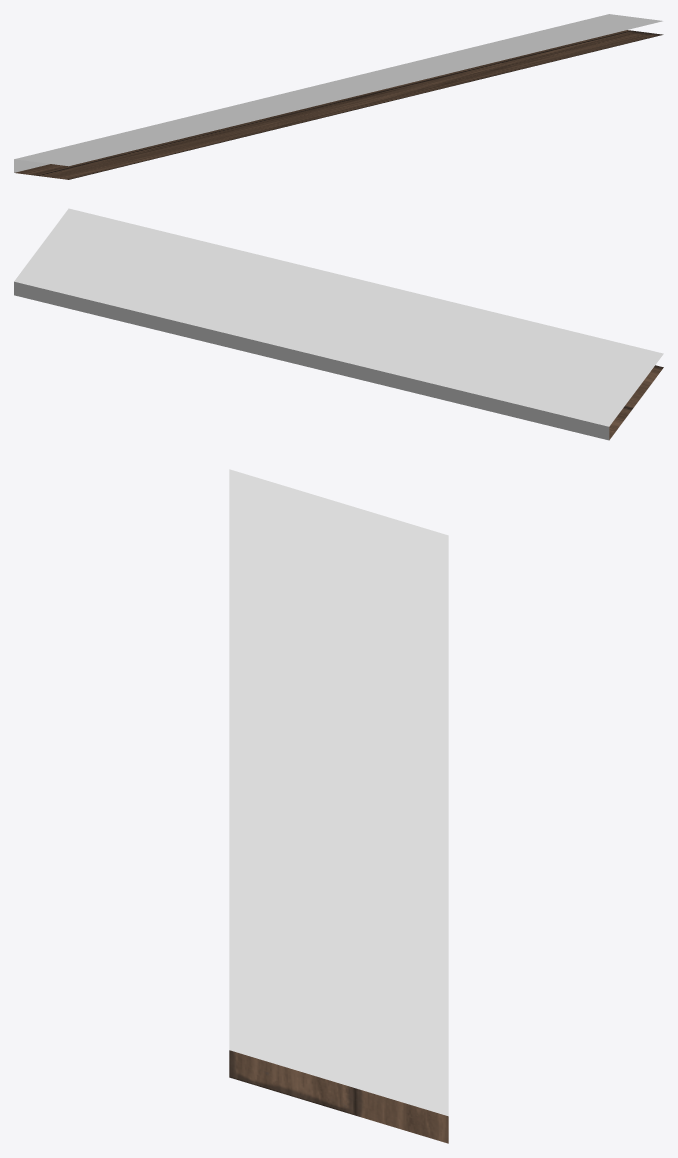
The model's file is Roof_2mH_Edge_A.fbx.
3 renders of one model, top to bottom at view 1: azimuth 30°, elevation 25°; view 2: azimuth 150°, elevation 25°; view 3: azimuth 270°, elevation 25°, orthographic. The views are drawn at different scales.
Visible parts, largest first — view 1: Roof_2mH_Edge_A; view 2: Roof_2mH_Edge_A; view 3: Roof_2mH_Edge_A.
Boxes of the visible parts, x1,y1,x2,y2 form: Roof_2mH_Edge_A: [14, 14, 663, 179]; Roof_2mH_Edge_A: [14, 208, 663, 440]; Roof_2mH_Edge_A: [229, 469, 448, 1143].
Size of the model in its own units: 6 by 0.9563 by 0.4506.
